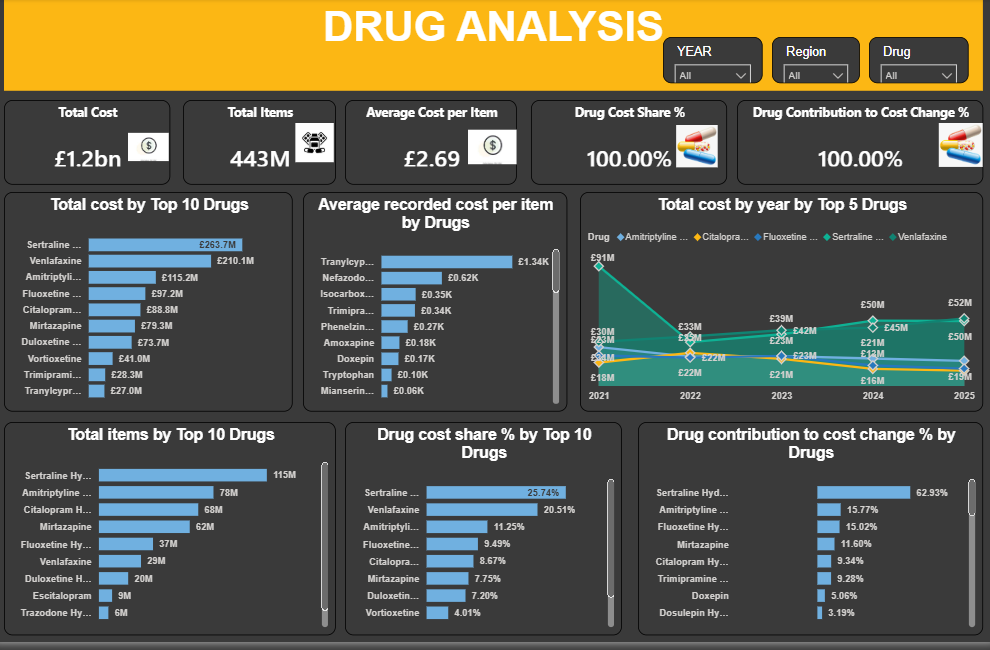

Layout of this report page (visuals, bound fields, positions):
{"tool":"powerbi","page":{"name":"Page 3","canvas":[1280,820],"ordinal":2},"visuals":[{"type":"clusteredBarChart","title":"Total  cost by Top 10 Drugs","fields":{"Category":["antidepressants_2021_2025_final1.CHEMICAL_SUBSTANCE"],"Y":["antidepressants_2021_2025_final1.Total  cost"]},"box":[15.3,246.1,368.4,280.5],"z":0},{"type":"clusteredBarChart","title":"Total  items by Top 10 Drugs","fields":{"Category":["antidepressants_2021_2025_final1.CHEMICAL_SUBSTANCE"],"Y":["antidepressants_2021_2025_final1.Total  items"]},"box":[15.3,539.3,423.3,271.6],"z":1000},{"type":"clusteredBarChart","title":"Drug cost share % by Top 10 Drugs","fields":{"Category":["antidepressants_2021_2025_final1.CHEMICAL_SUBSTANCE"],"Y":["antidepressants_2021_2025_final1.SUBSTANCE COST SHARE %"]},"box":[450,539.3,353.1,271.6],"z":2000},{"type":"clusteredBarChart","title":"Drug contribution to cost change % by Drugs","fields":{"Y":["antidepressants_2021_2025_final1.substance contribution to cost change %"],"Category":["antidepressants_2021_2025_final1.CHEMICAL_SUBSTANCE"]},"box":[823.6,539.3,439.8,271.6],"z":3000},{"type":"lineChart","title":"Total  cost by year by  Top 5 Drugs","fields":{"Category":["Datetable.year"],"Y":["antidepressants_2021_2025_final1.Total  cost"],"Series":["antidepressants_2021_2025_final1.CHEMICAL_SUBSTANCE"]},"box":[749.6,246.1,513.8,280.5],"z":4000},{"type":"clusteredBarChart","title":"Average recorded cost per item by Drugs","fields":{"Category":["antidepressants_2021_2025_final1.Drug"],"Y":["antidepressants_2021_2025_final1.Average recorded cost per item"]},"box":[396.5,246.1,336.6,280.5],"z":5000},{"type":"textbox","box":[15.3,0,1248.1,117.3],"z":6000},{"type":"cardVisual","title":"Total Cost","fields":{"Data":["antidepressants_2021_2025_final1.Total  cost"]},"box":[15.3,128.8,211.6,108.4],"z":7000},{"type":"cardVisual","title":"Total Items","fields":{"Data":["antidepressants_2021_2025_final1.Total  items"]},"box":[243.5,128.8,195.1,108.4],"z":8000},{"type":"cardVisual","title":"Average Cost per Item","fields":{"Data":["antidepressants_2021_2025_final1.Average recorded cost per item"]},"box":[450,128.8,219.3,108.4],"z":9000},{"type":"cardVisual","title":"Drug Cost Share %","fields":{"Data":["antidepressants_2021_2025_final1.Drug cost share %"]},"box":[687.2,128.8,249.9,108.4],"z":10000},{"type":"cardVisual","title":"Drug Contribution to Cost Change %","fields":{"Data":["antidepressants_2021_2025_final1.Drug contribution to cost change %"]},"box":[949.8,128.8,313.6,108.4],"z":11000},{"type":"slicer","fields":{"Values":["antidepressants_2021_2025_final1.YEAR"]},"box":[855.5,48.4,127.5,58.6],"z":12000},{"type":"slicer","fields":{"Values":["antidepressants_2021_2025_final1.Region"]},"box":[994.4,48.4,112.2,58.6],"z":13000},{"type":"slicer","fields":{"Values":["antidepressants_2021_2025_final1.Drug"]},"box":[1118.1,48.4,127.5,58.6],"z":14000},{"type":"image","box":[173.4,160.6,52.3,56.1],"z":15000},{"type":"image","box":[383.7,158.1,54.8,49.7],"z":16000},{"type":"image","box":[606.9,160.6,62.5,56.1],"z":17000},{"type":"image","box":[868.2,160.6,61.2,53.5],"z":18000},{"type":"image","box":[1206.1,158.1,57.4,56.1],"z":19000}]}

Visuals, with their boxes in screenshot pixels (x1, y1, x2, y2), scaled from the page's 1280x820 canvas onto the 990x650 screenshot:
"Total  cost by Top 10 Drugs" clusteredBarChart: box=[12, 195, 297, 417]
"Total  items by Top 10 Drugs" clusteredBarChart: box=[12, 427, 339, 643]
"Drug cost share % by Top 10 Drugs" clusteredBarChart: box=[348, 427, 621, 643]
"Drug contribution to cost change % by Drugs" clusteredBarChart: box=[637, 427, 977, 643]
"Total  cost by year by  Top 5 Drugs" lineChart: box=[580, 195, 977, 417]
"Average recorded cost per item by Drugs" clusteredBarChart: box=[307, 195, 567, 417]
textbox: box=[12, 0, 977, 93]
"Total Cost" cardVisual: box=[12, 102, 175, 188]
"Total Items" cardVisual: box=[188, 102, 339, 188]
"Average Cost per Item" cardVisual: box=[348, 102, 518, 188]
"Drug Cost Share %" cardVisual: box=[532, 102, 725, 188]
"Drug Contribution to Cost Change %" cardVisual: box=[735, 102, 977, 188]
slicer - antidepressants_2021_2025_final1.YEAR: box=[662, 38, 760, 85]
slicer - antidepressants_2021_2025_final1.Region: box=[769, 38, 856, 85]
slicer - antidepressants_2021_2025_final1.Drug: box=[865, 38, 963, 85]
image: box=[134, 127, 175, 172]
image: box=[297, 125, 339, 165]
image: box=[469, 127, 518, 172]
image: box=[671, 127, 719, 170]
image: box=[933, 125, 977, 170]
